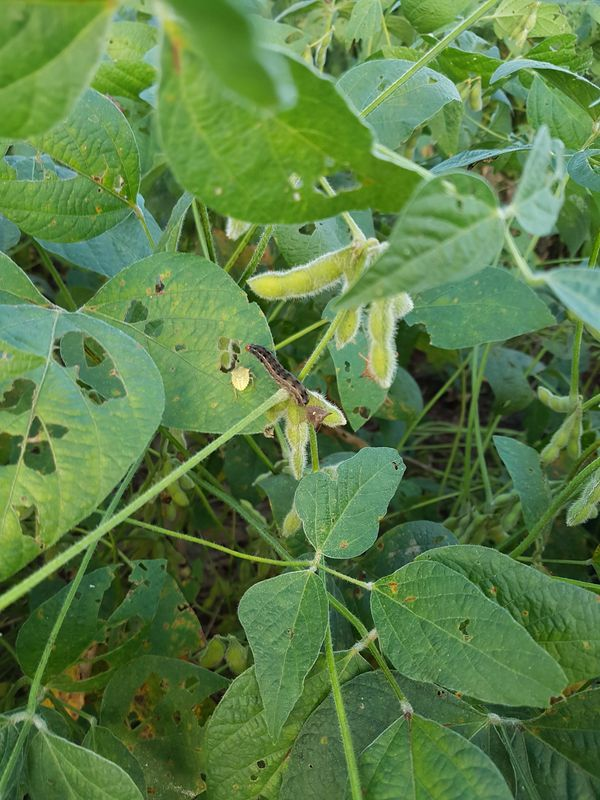Euschistus_heros_adulto: (303, 406, 337, 438)
Euschistus_heros_ninfa: (226, 360, 258, 397)
Spodoptera_albula: (249, 334, 347, 403)
